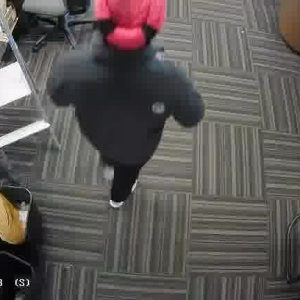person: (69, 0, 168, 170)
